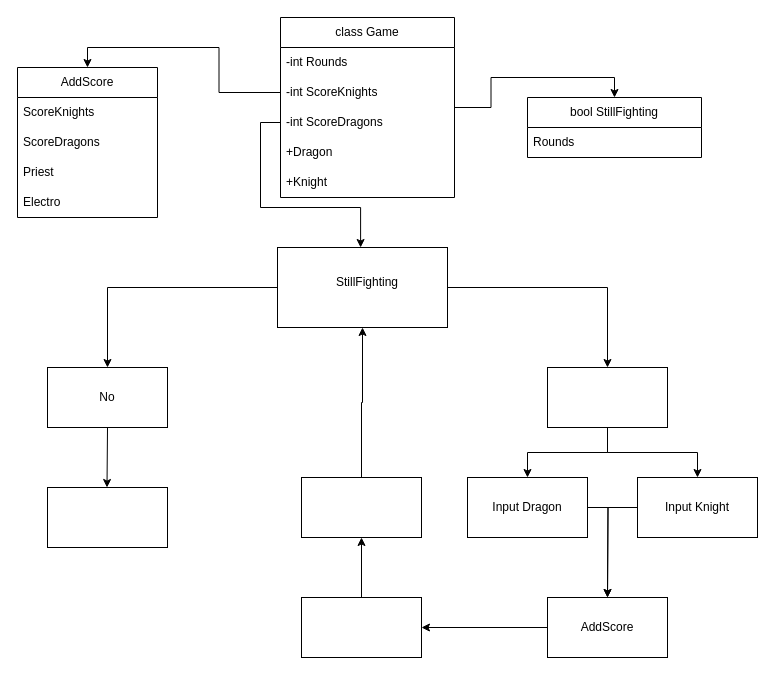
This 775x675 diagram has some shape labels left out. The shapes that lost their labels are listed below. From the top down, each one's centre as x and y in pixels, then its label:
At (607,397): "Yes".
At (107,517): "End".
At (361,507): "Print Who Won".
At (361,627): "Rounds += 1".
